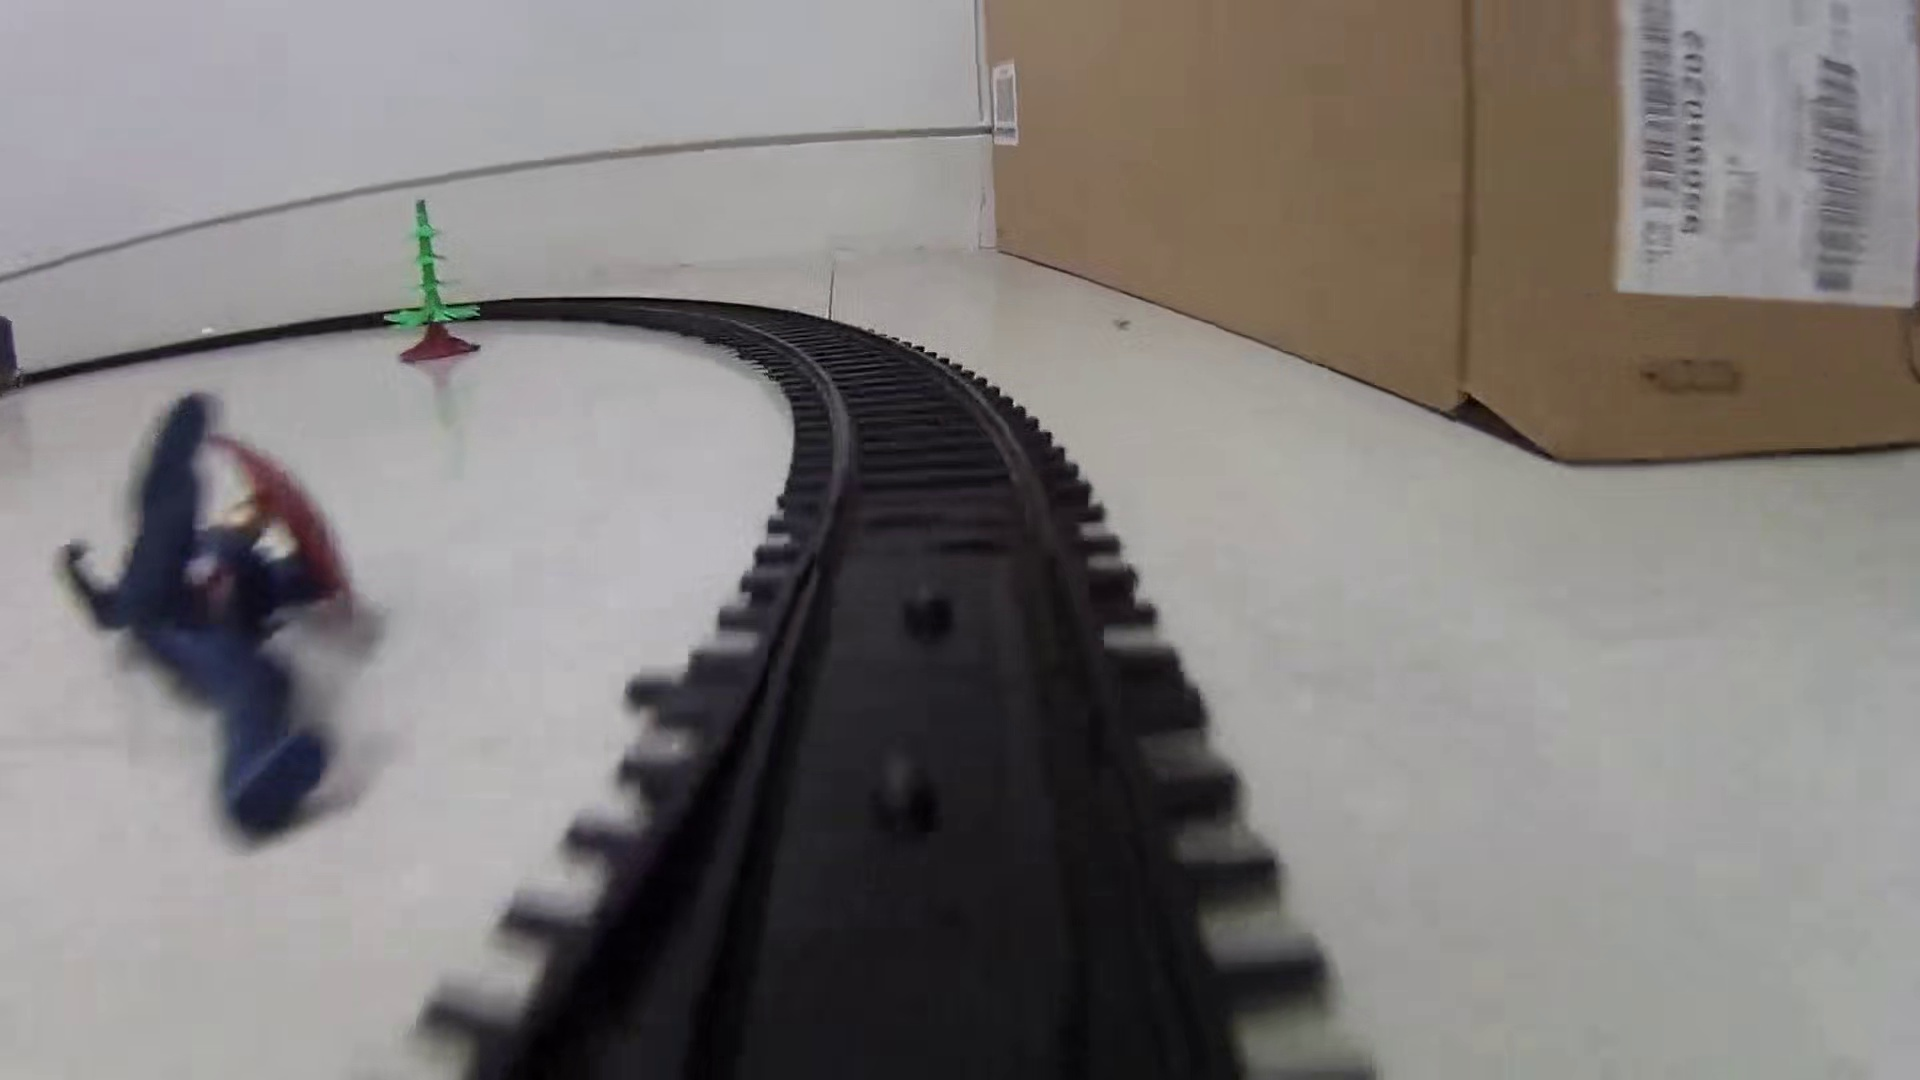people: (56, 390, 357, 848)
tree: (386, 194, 481, 371)
